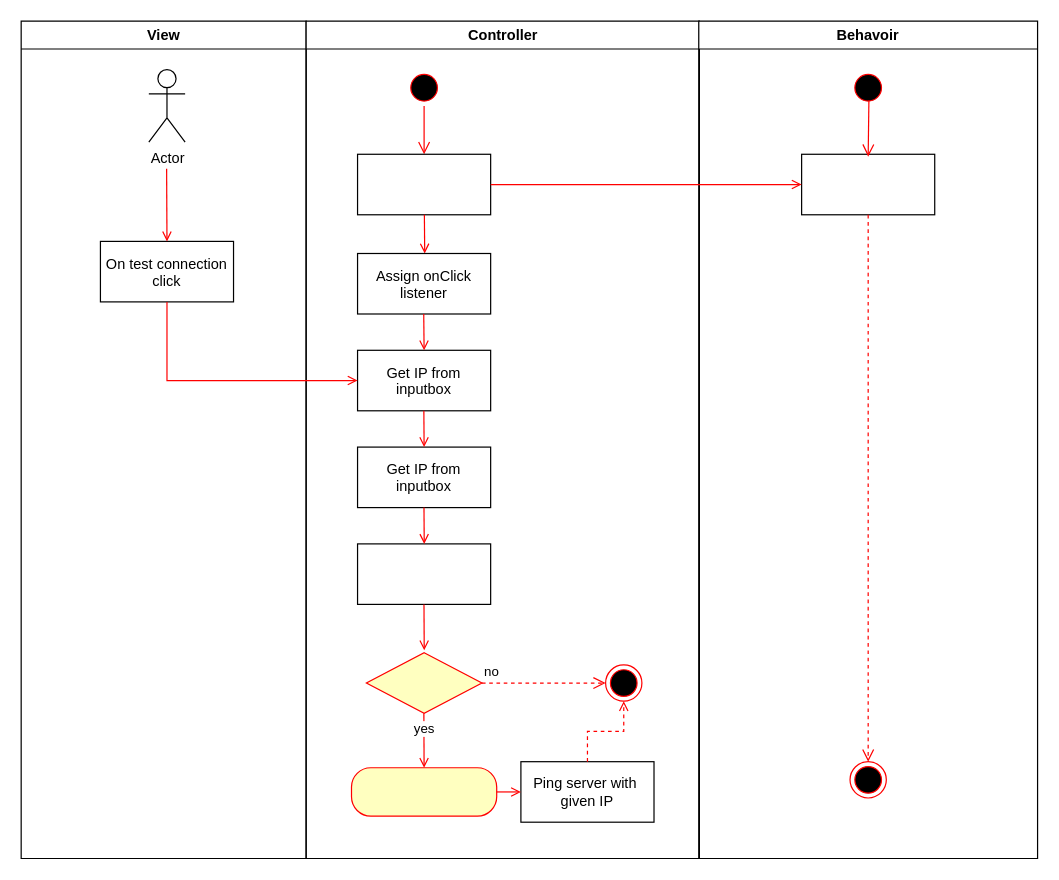
The diagram is 1059 pixels wide and 880 high, and some of its shapes have lost their labels. The shapes that lost their labels are listed below. From the top down, each one's centre as x and y in pixels, then its label:
pixel 423 184: On start
pixel 867 184: Get controller
pixel 423 573: Validate IP address
pixel 423 682: Validation result
pixel 423 791: Start courtine
